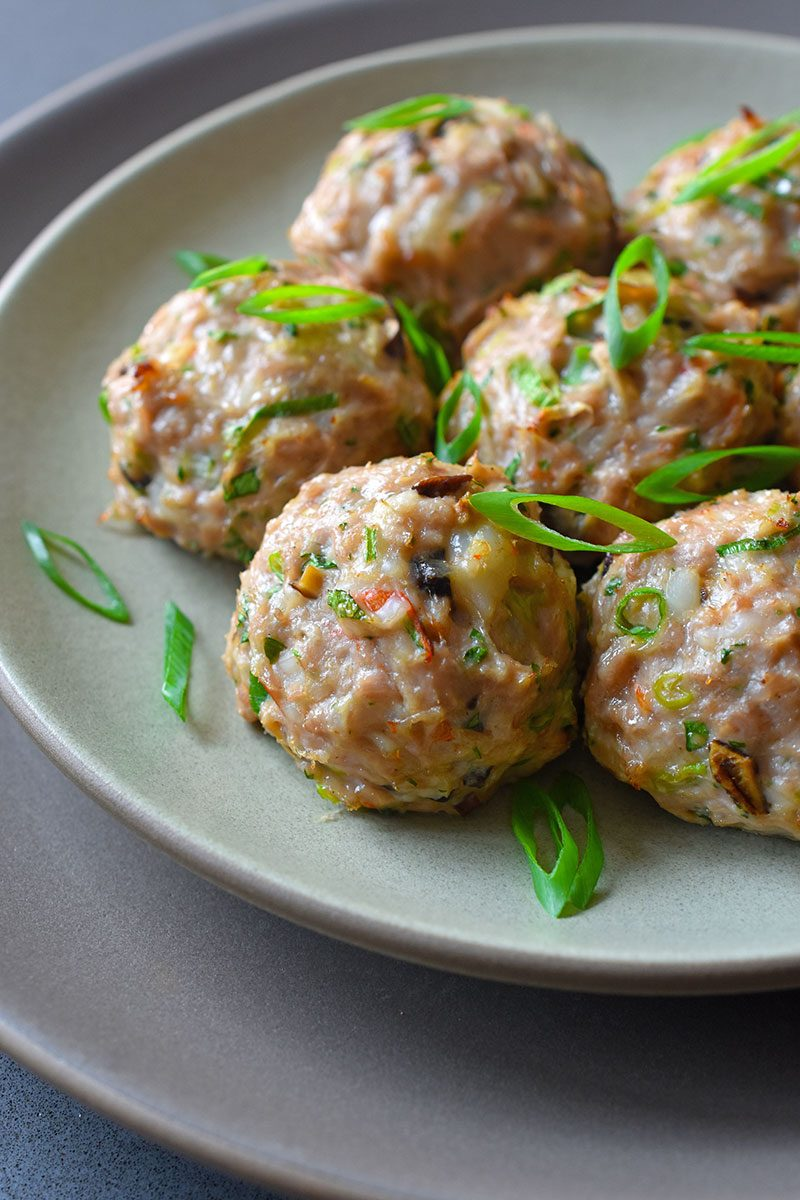meatballs: (266, 471, 565, 810), (122, 272, 412, 528), (592, 503, 800, 803), (490, 277, 747, 515), (317, 105, 604, 310), (653, 124, 800, 330)
